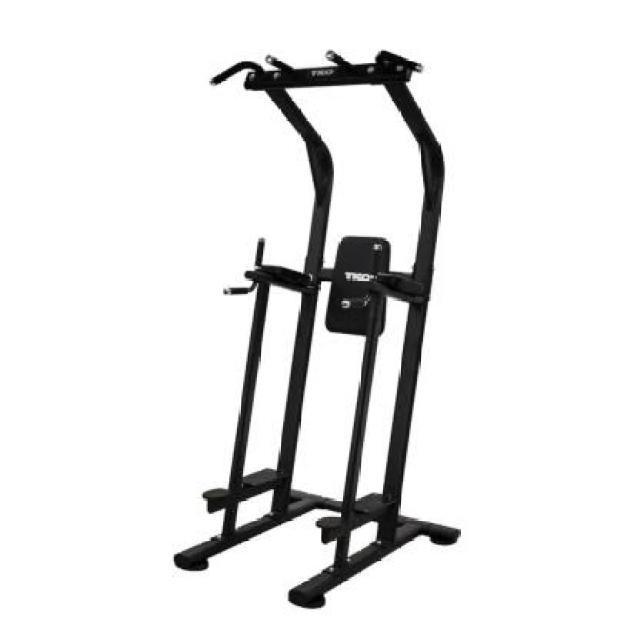chinning dipping: (172, 49, 460, 611)
